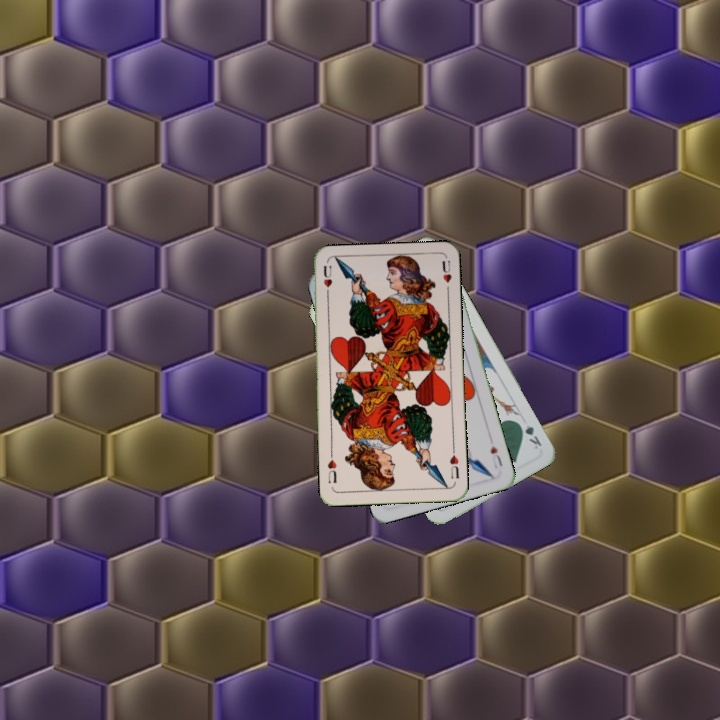GK: (514, 418, 545, 452)
HU: (319, 262, 335, 301), (446, 444, 462, 481), (486, 441, 505, 471)
